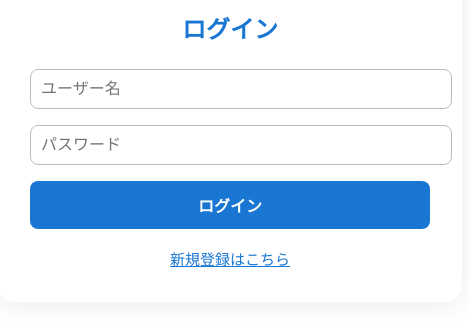
Test: Login › 新規登録画面に切り替わる
The width and height of the screenshot is (469, 322).
Click the button "新規登録はこちら" at (230, 258), box [164,247,296,270]
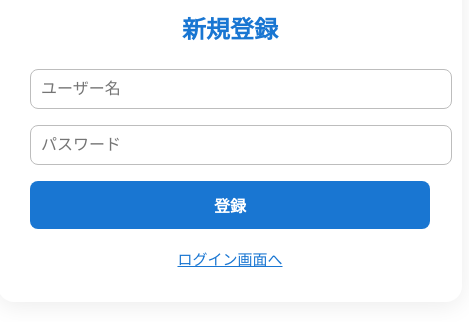
Check: the heading "新規登録" is shown, box [182,17,278,43]
Check: the button "登録" is shown, box [30,181,430,229]
